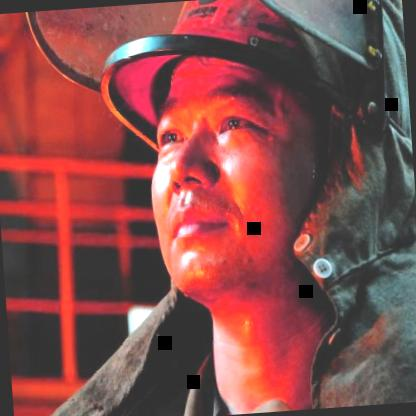helmet: (97, 0, 416, 337)
